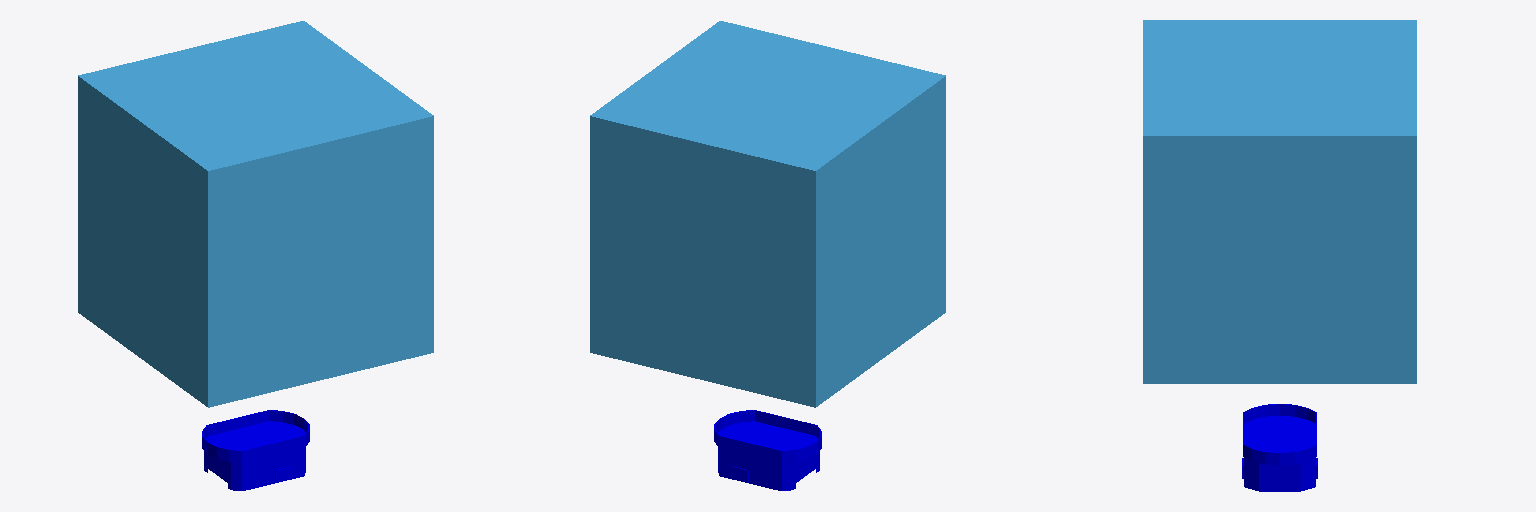
URDF robot description (basic_shapes):
<?xml version="1.0"?>
<robot name="basic_shapes">

  <material name="yellow">
    <color rgba="1 1 0 1"/>
  </material>

  <material name="red">
    <color rgba="1 0 0 1"/>
  </material>

  <material name="green">
    <color rgba="0 1 0 1"/>
  </material>

  <material name="blue">
    <color rgba="0 0 1 1"/>
  </material>

  <material name="white">
    <color rgba="1 1 1 1"/>
  </material>

  <material name="black">
    <color rgba="0 0 0 1"/>
  </material>

  <link name="base_link">
    <visual>
        <geometry>
            <!-- <box size="1.0 1.0 0.2"/> -->
             <mesh filename="package://rasbot_description/meshes/chassis.stl"/>
        </geometry>
        <material name="blue"/>
    </visual>
    <collision>
        <geometry>
            <mesh filename="package://rasbot_description/meshes/chassis.stl"/>
        </geometry>
    </collision>
  </link>

  <link name="link1">
    <visual>
      <geometry>
        <box size="1 1 1"/>
      </geometry>
    </visual>
    <collision>
        <geometry>
            <box size="1 1 1"/>
        </geometry>
    </collision>
  </link>
  
  <joint name="joint1" type="fixed">
    <origin xyz="0 0 1"/>
    <parent link="base_link"/>
    <child link="link1"/>
  </joint>
</robot>

--- Facts derived from the render (not from the file) ---
3 views of the same robot in one strip: view 1: azimuth 30°, elevation 25°; view 2: azimuth 150°, elevation 25°; view 3: azimuth 270°, elevation 25° (orthographic).
Model basic_shapes with 2 links and 1 joints (1 fixed), rooted at base_link, posed all joints at 0.
Visible links, largest first — view 1: link1, base_link; view 2: link1, base_link; view 3: link1, base_link.
Boxes of the visible links, <box> form: link1: <box>78,21,433,407</box>; base_link: <box>202,410,309,490</box>; link1: <box>590,21,945,407</box>; base_link: <box>714,410,821,490</box>; link1: <box>1143,20,1416,383</box>; base_link: <box>1242,404,1317,491</box>.
Size in the robot's own frame: 1 by 1 by 1.59 metres.
1 mesh visuals loaded from 1 distinct referenced files (1 binary STL).